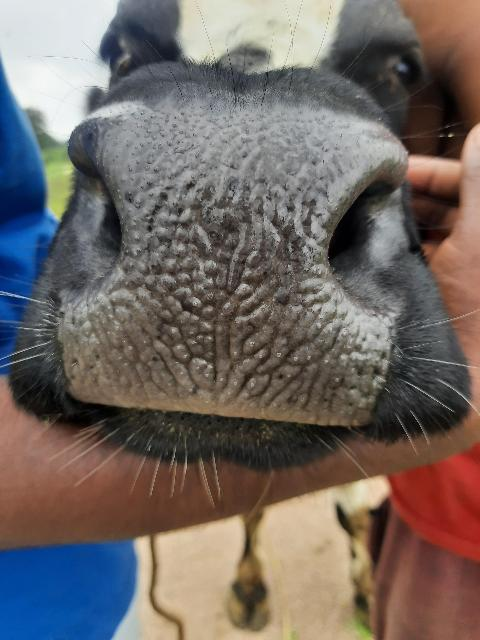Muzzle: (88, 120, 354, 420)
